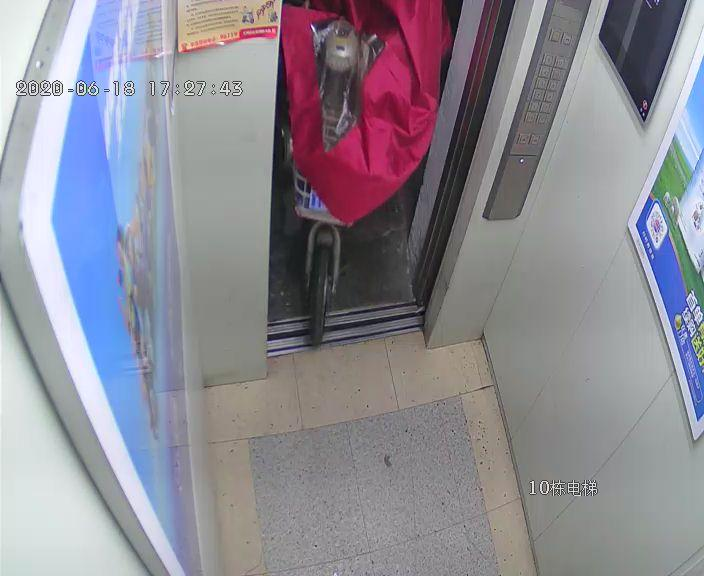Electric-bicycle: (282, 8, 435, 340)
